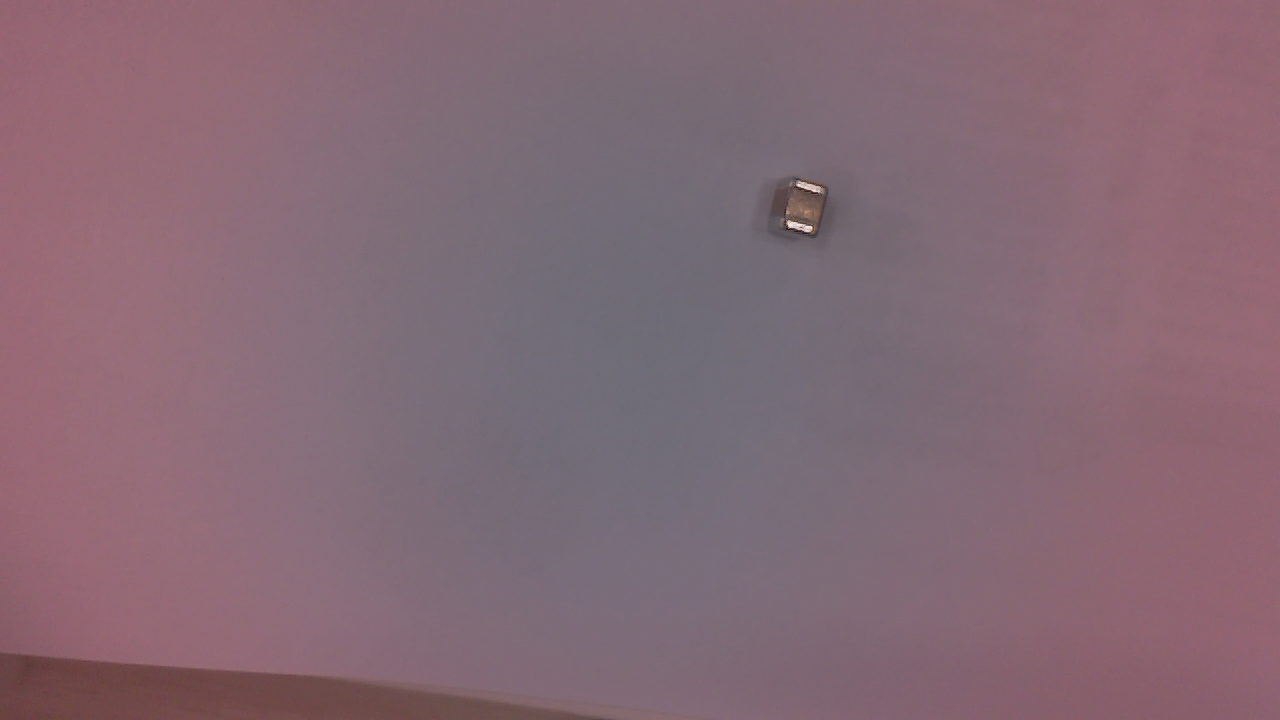Condensator: (764, 177, 843, 253)
